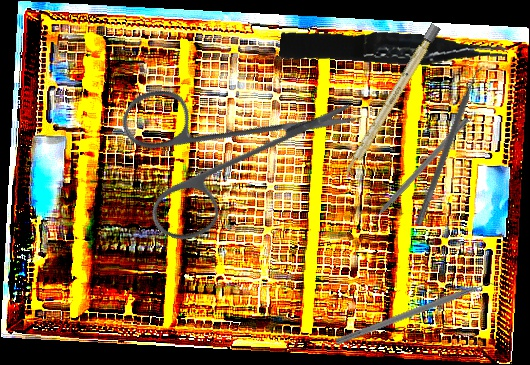Chopper: (357, 111, 470, 231), (334, 276, 504, 354)
Iris Scissors: (83, 11, 361, 288)
Scalpel Handle: (340, 23, 442, 180)
Spatula Surgical: (415, 61, 487, 229)
Tissue Forceps: (278, 22, 508, 78)
